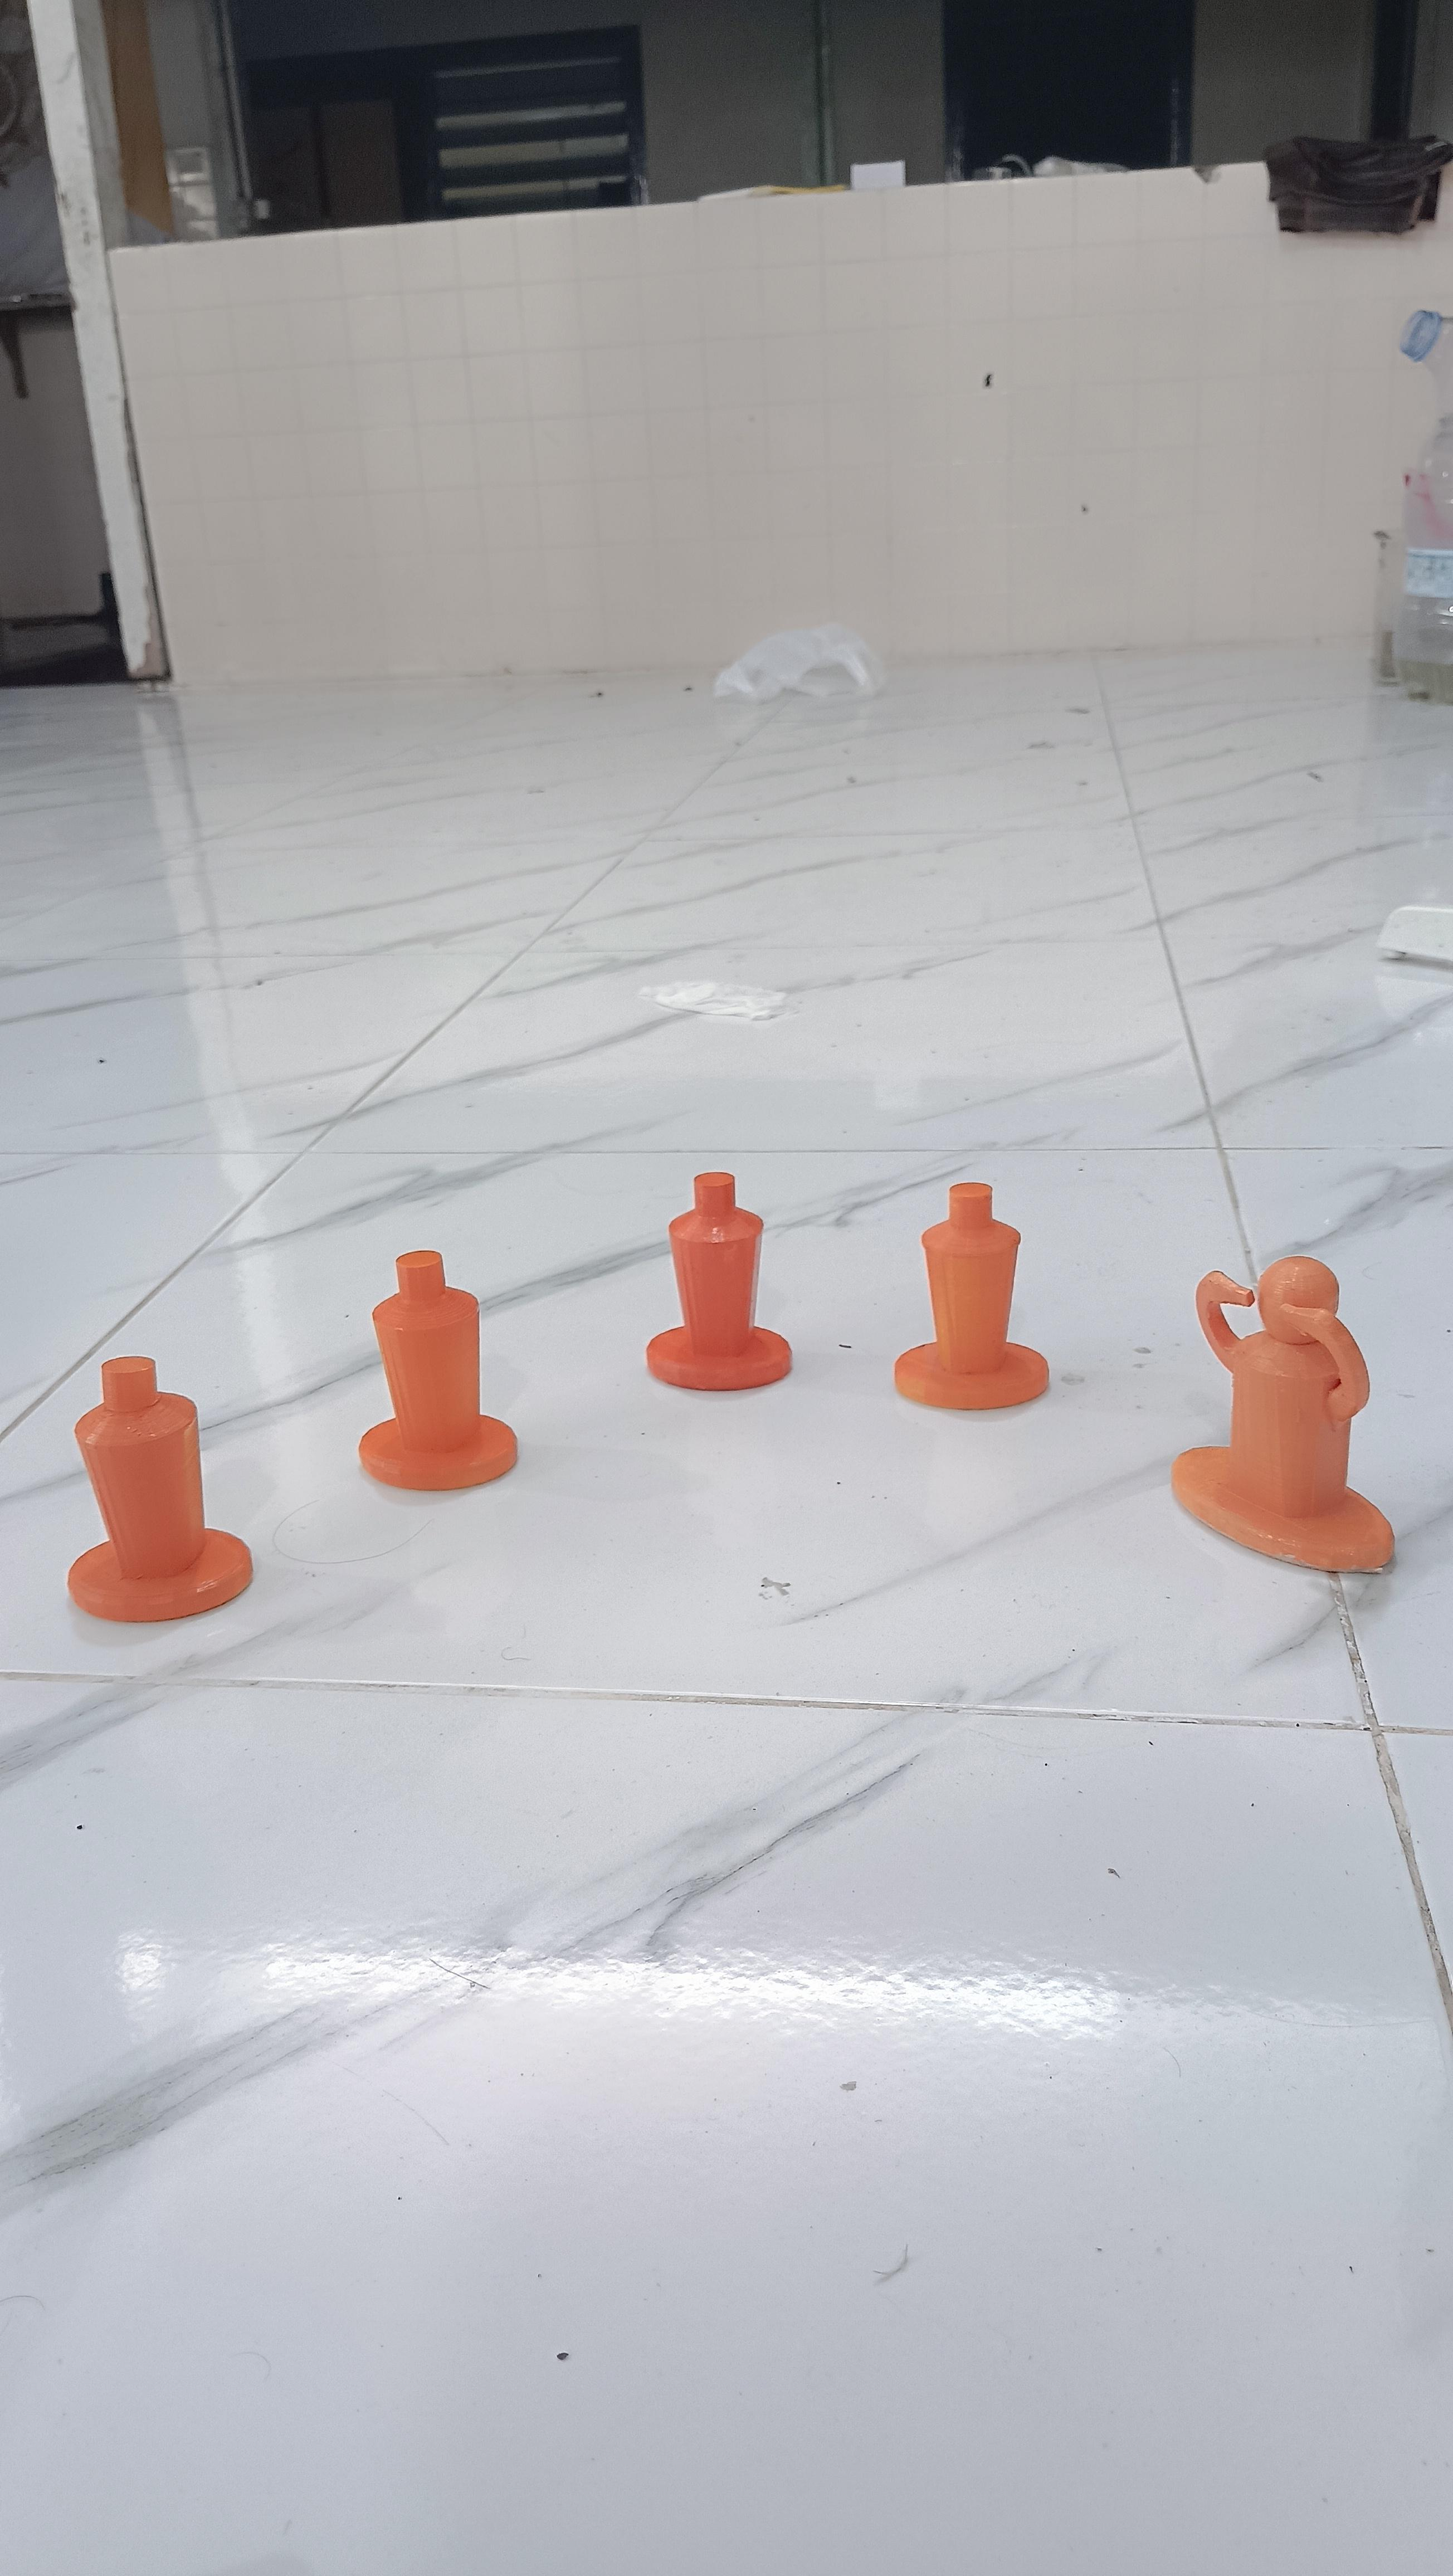dummy: (52, 1343, 269, 1637), (345, 1242, 536, 1507), (891, 1170, 1057, 1426), (630, 1162, 801, 1409)
real_person: (1166, 1226, 1411, 1591)
